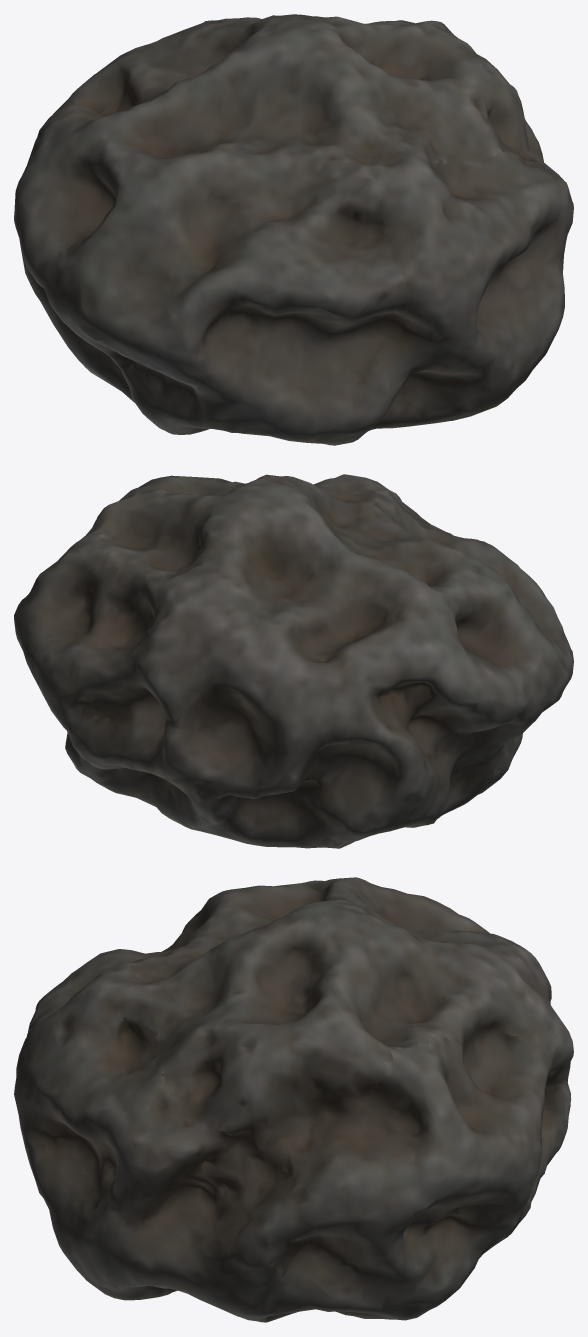
The model's file is asteroid_common_2_lod2.glb.
3 views of the same model, one above another, from view 1: azimuth 30°, elevation 25°; view 2: azimuth 150°, elevation 25°; view 3: azimuth 270°, elevation 25° (orthographic). The views are drawn at different scales.
Visible parts, largest first — view 1: model; view 2: model; view 3: model.
Boxes of the visible parts, x1,y1,x2,y2 form: model: [14, 14, 573, 445]; model: [14, 474, 573, 848]; model: [14, 877, 573, 1322].
Bounding box in the file's own units: 1.89 × 1.26 × 1.73.
Materials: 1 (1 with a texture image).
